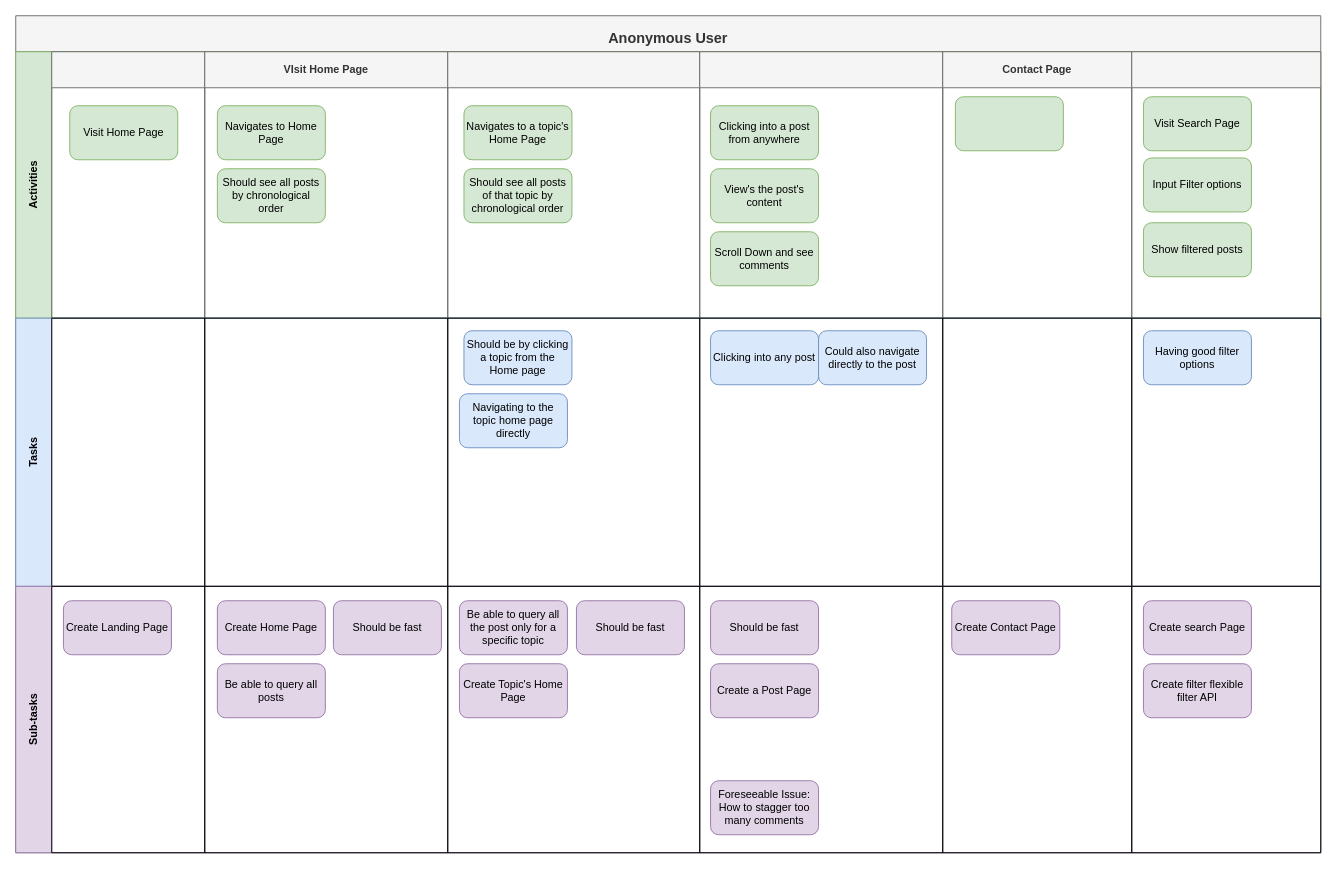
The diagram is 1337 pixels wide and 869 high, and some of its shapes have lost their labels. The box of each missing label's shape, as (x1, y1, x2, y2) in pixels:
Post Filtering (Potential): (1131, 51, 1321, 318)
Viewing a Post: (699, 51, 943, 318)
Visit a Topic's Home Page: (447, 51, 700, 318)
Visit Contact Page: (954, 96, 1063, 151)
Visit Landing Page: (51, 51, 205, 318)
